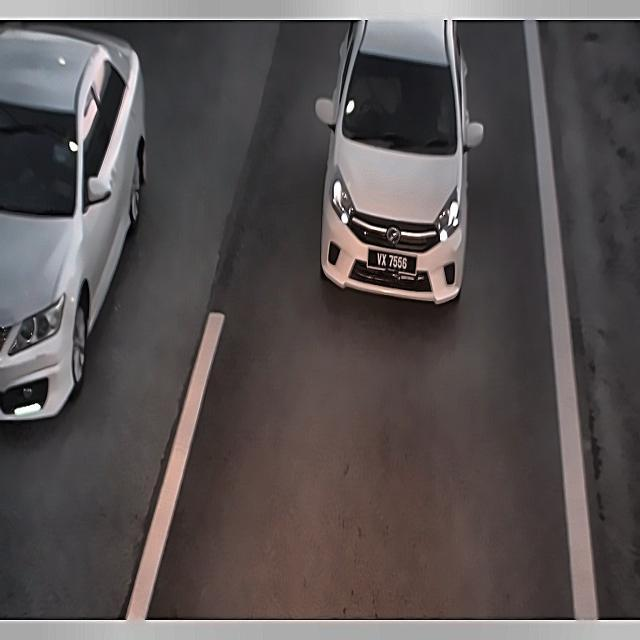car: (366, 244, 416, 282)
